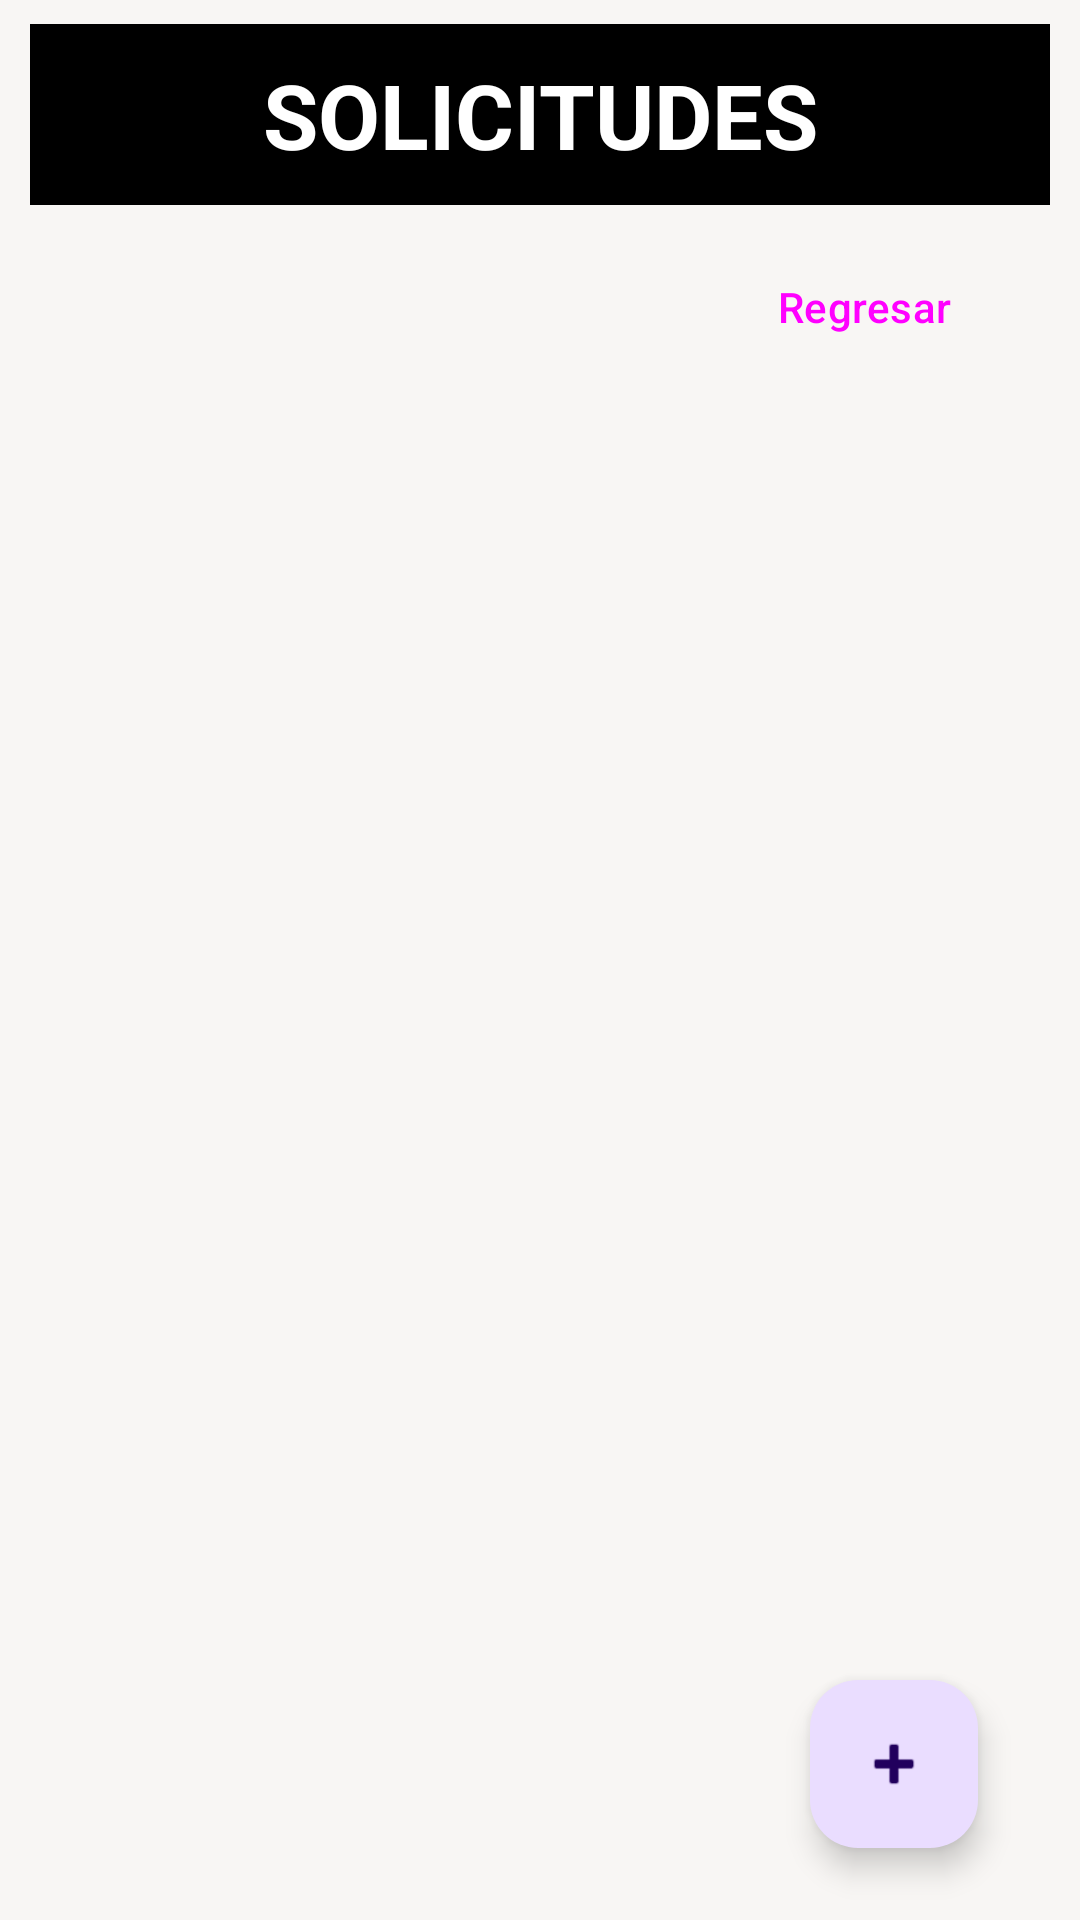

Screen size 1080px x 1920px. Icon name, then its center in pixels as [x,y]:
add: [894,1764]
